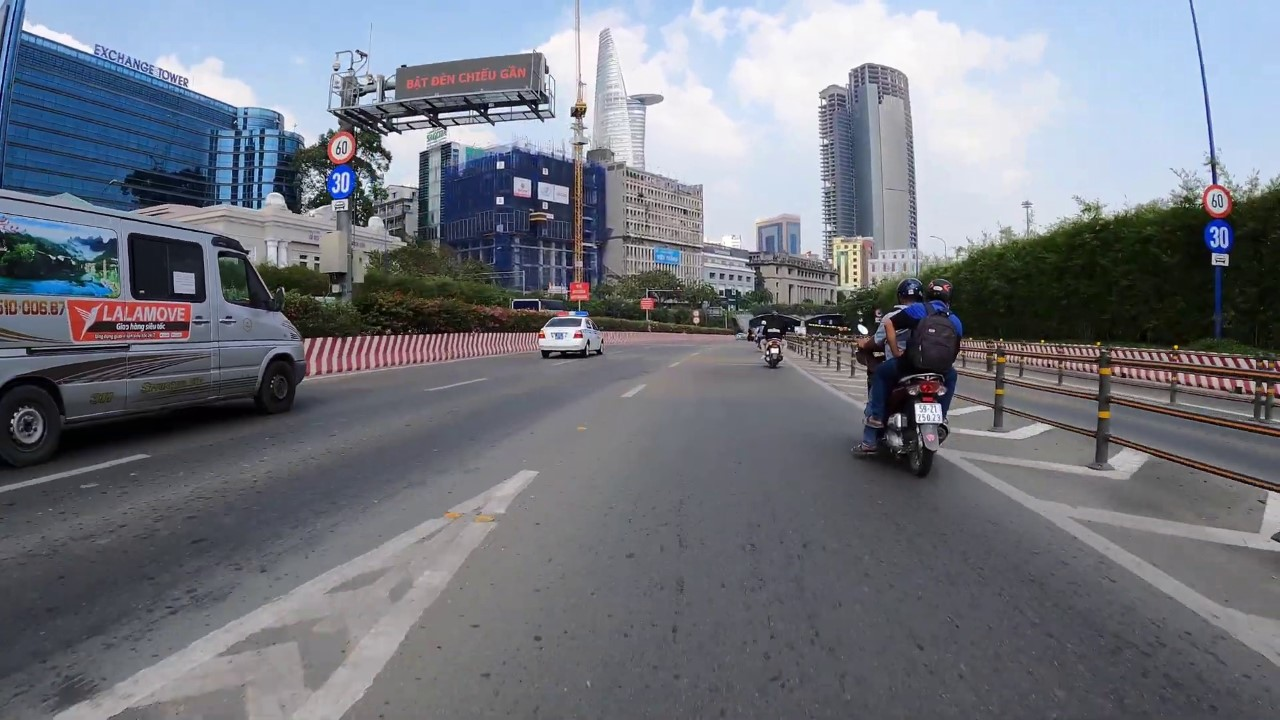gioi_han_60km: (1201, 183, 1233, 219), (326, 129, 356, 165)
